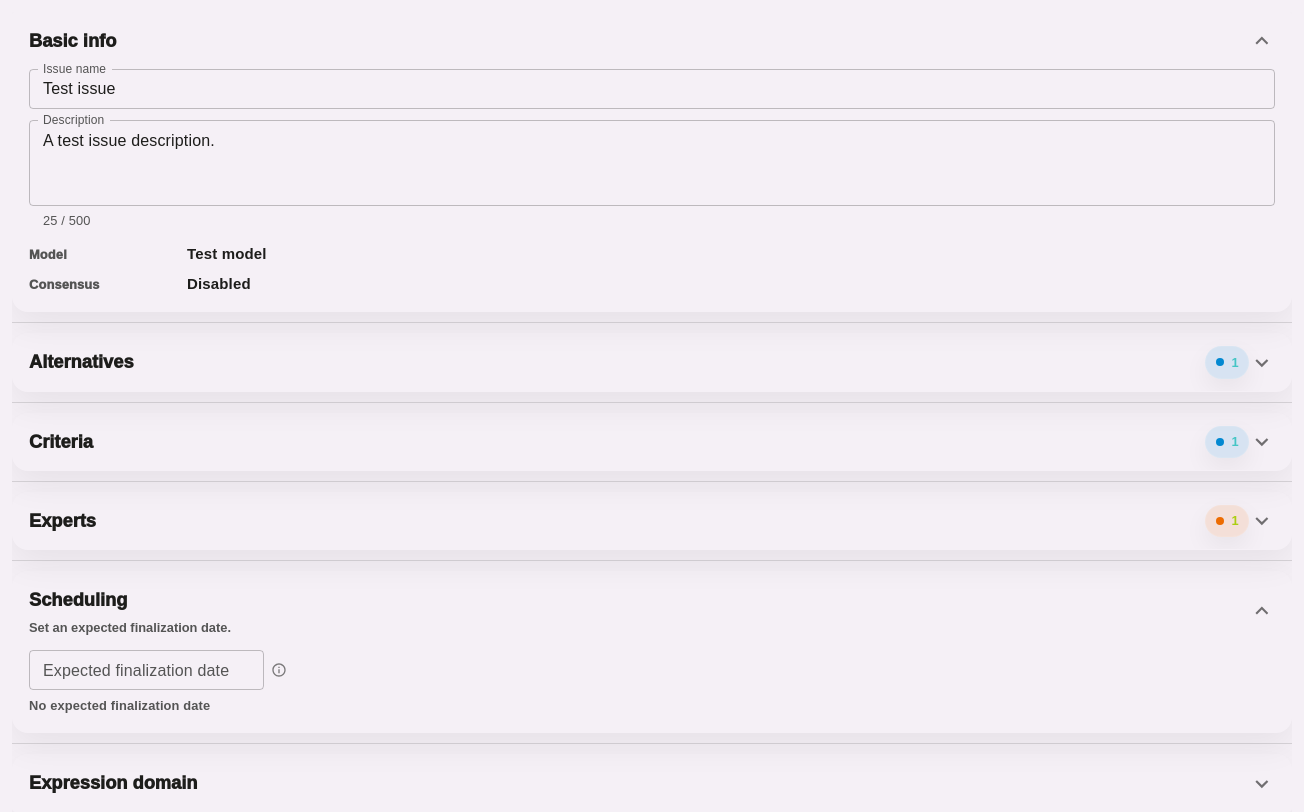
SummaryStep expected finalization date › labels the optional estimate and explains that it does not finalize the issue automatically
The image size is (1304, 812).
Expected: the text "Set an expected finalization date." is shown, [29,620,231,634]
Hover over the element named "This date is only an estimate. The issue will not be finalized automatically when it is reached." at (279, 670), box [271,662,287,678]
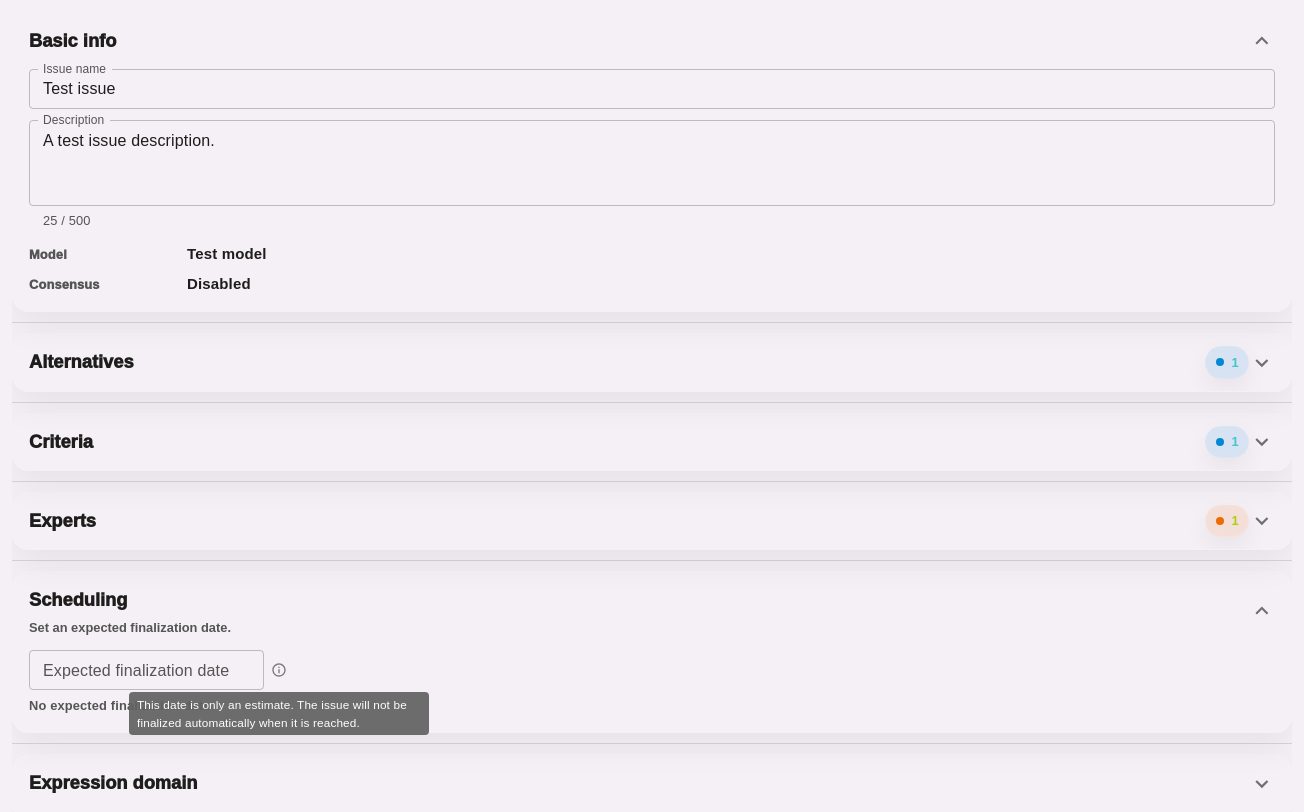
Expected: the tooltip shows "This date is only an estimate. The issue will not be finalized automatically when it is reached.", [137,698,407,729]
